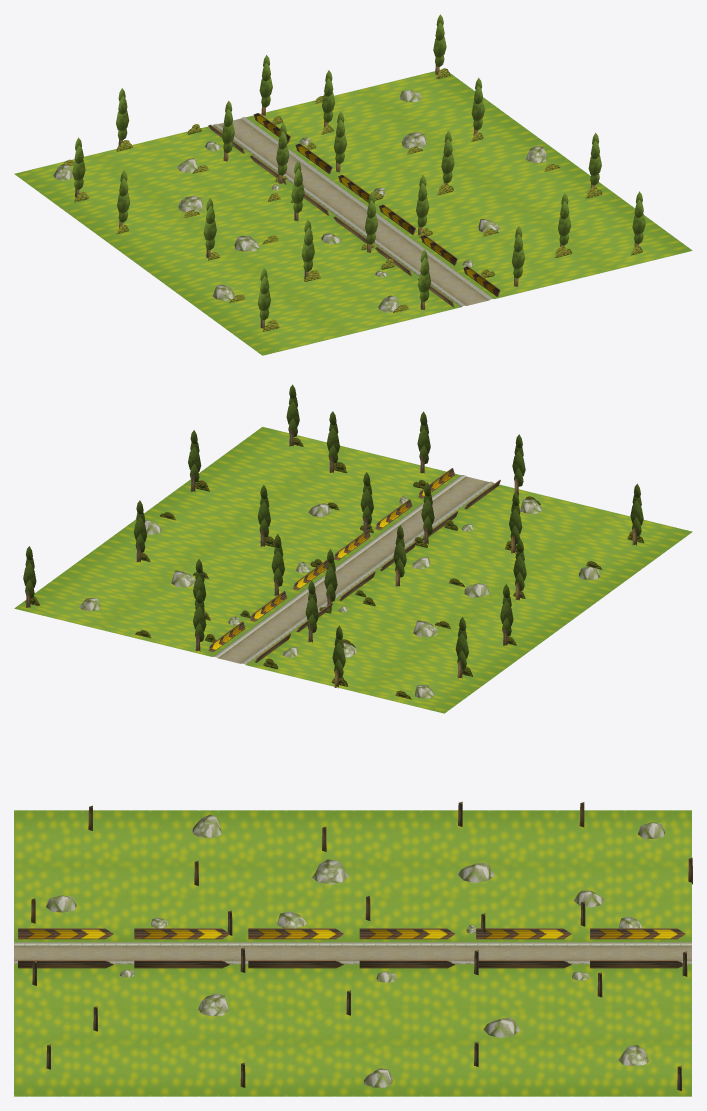
Rendered from VillageRoad01.FBX.
3 views of the same model, one above another, from view 1: azimuth 30°, elevation 25°; view 2: azimuth 150°, elevation 25°; view 3: azimuth 270°, elevation 25° (orthographic). The views are drawn at different scales.
Visible parts, largest first — view 1: Road (×2), Tree; view 2: Road (×2), Tree (×21); view 3: Road (×2), Fence (×12), Stone (×4).
Boxes of the visible parts, bbox=[...] form: Road (×2): bbox=[14, 71, 692, 355]; Tree: bbox=[276, 123, 289, 183]; Road (×2): bbox=[14, 426, 692, 713]; Tree (×21): bbox=[23, 384, 643, 688]; Road (×2): bbox=[14, 810, 691, 1096]; Fence (×12): bbox=[18, 928, 685, 968]; Stone (×4): bbox=[198, 859, 519, 1037].
Bounding box in the file's own units: 10000 × 1434 × 10015.
